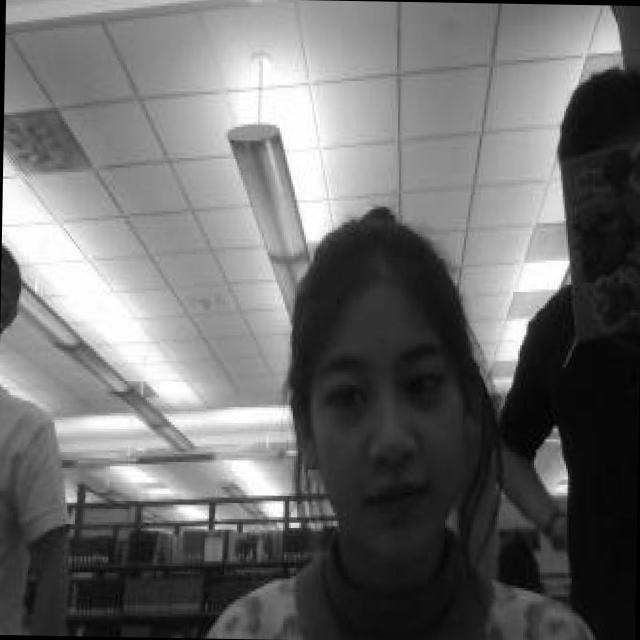Focused: (308, 284, 472, 566)
